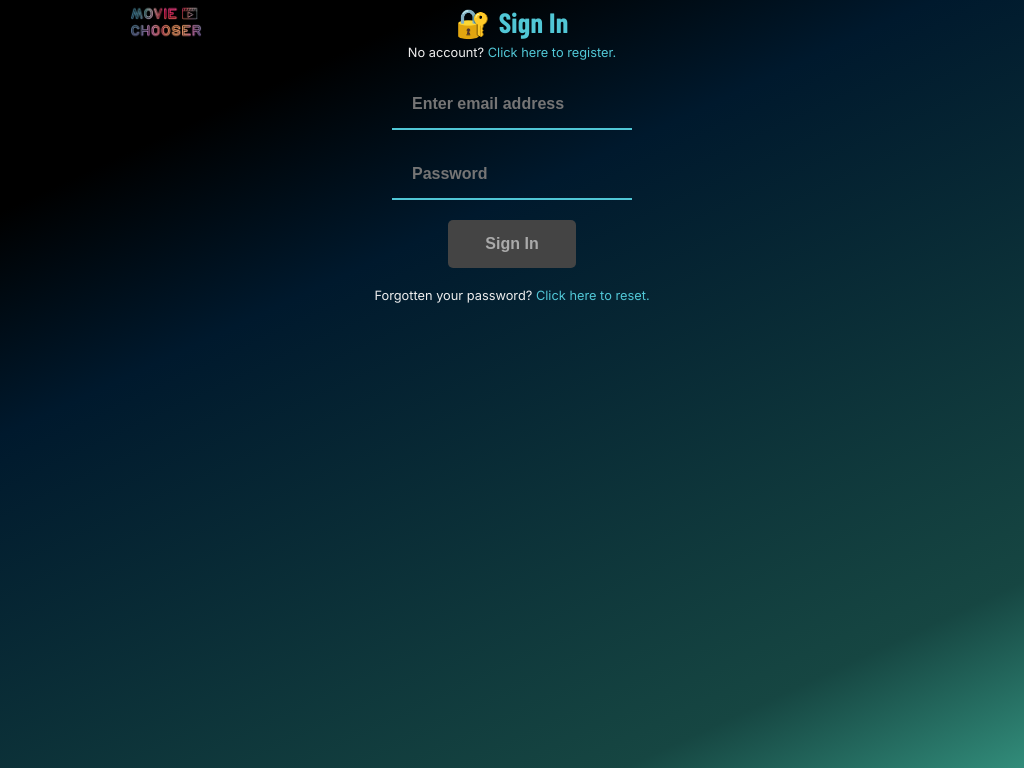
Test: <AuthForm /> tests › switches to register form on register link click
Expected: the button "click here to sign in" is not shown
Click the button "Click here to register.". click: (552, 53)
box: [488,45,616,60]
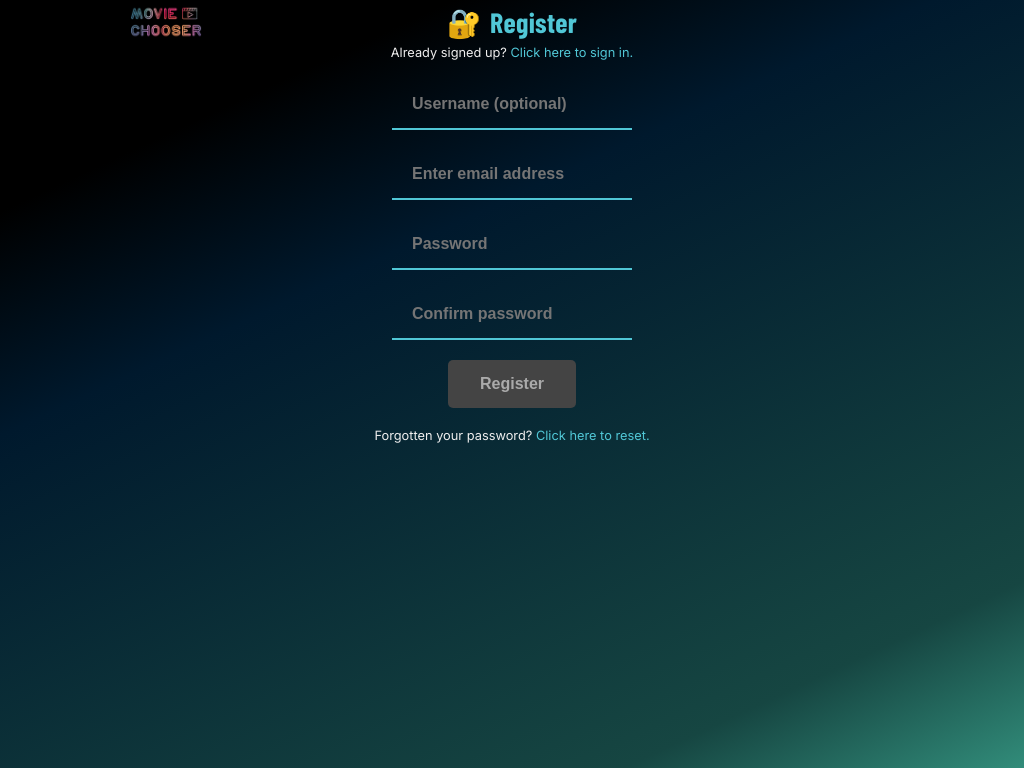
Expected: the button "Click here to sign in." is shown, [510,45,633,60]
Expected: the button "Click here to register" is gone
